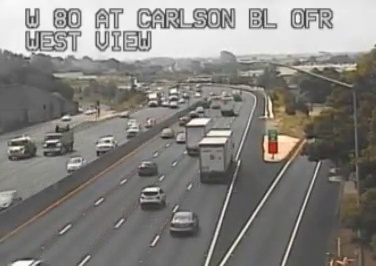car: (170, 211, 199, 235), (139, 187, 165, 204), (137, 161, 158, 176), (160, 127, 174, 139), (175, 132, 188, 144)
truck: (199, 129, 232, 183), (185, 117, 211, 157)
